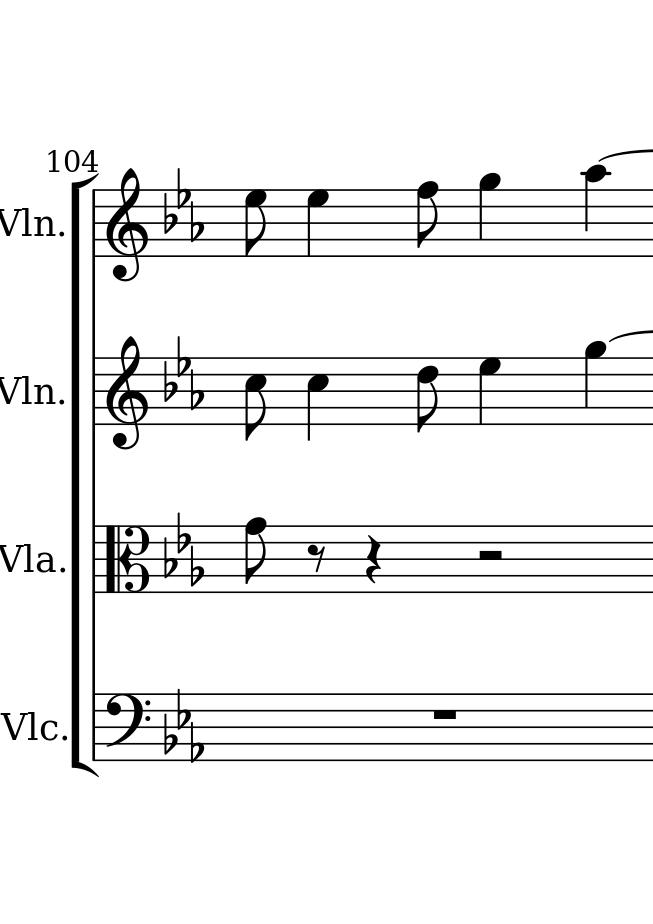0: (62, 148, 80, 175)
1: (46, 149, 64, 176)
4: (80, 148, 100, 175)
4_10: (583, 164, 611, 260)
4_5: (304, 355, 333, 441)
4_7: (477, 356, 503, 426), (306, 189, 331, 258)
4_9: (478, 173, 503, 257), (584, 341, 608, 427)
8_5: (244, 356, 269, 443)
8_6: (415, 356, 441, 436)
8_7: (244, 190, 268, 257)
8_8: (243, 516, 269, 595), (416, 180, 440, 257)
Bracke: (68, 172, 104, 777)
Cclef: (102, 525, 151, 596)
E_F: (163, 165, 204, 244), (161, 689, 204, 764), (162, 334, 203, 411), (161, 514, 205, 585)
Fclef: (99, 691, 157, 759)
Gclef: (103, 167, 156, 282), (105, 334, 151, 451)
Rests1: (431, 703, 460, 723)
Rests2: (475, 546, 506, 565)
Rests4: (365, 534, 384, 584)
Rests8: (308, 542, 327, 575)
Single_barline: (87, 190, 109, 257), (85, 526, 103, 593), (86, 694, 103, 762), (88, 357, 103, 426)
Vla: (1, 533, 57, 583)
Vlc: (2, 704, 59, 751)
Vln: (1, 199, 59, 245), (1, 370, 58, 407)
